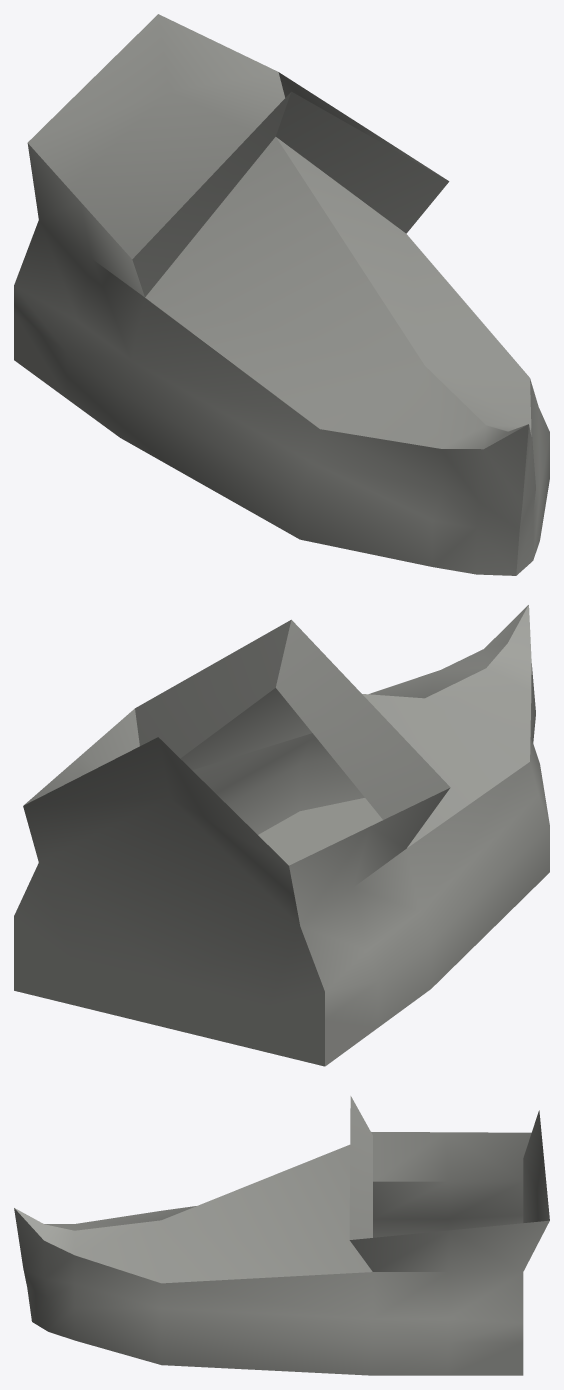
File: EnemyGroundLegR.fbx
3 views of the same model, one above another, from view 1: azimuth 30°, elevation 25°; view 2: azimuth 150°, elevation 25°; view 3: azimuth 270°, elevation 25° (orthographic). The views are drawn at different scales.
Visible parts, largest first — view 1: polySurface21; view 2: polySurface21; view 3: polySurface21.
Part boxes in pixels (left/top/right/bottom): polySurface21: left=14, top=14, right=549, bottom=575; polySurface21: left=14, top=605, right=549, bottom=1066; polySurface21: left=14, top=1096, right=549, bottom=1375.
Size of the model in its own units: 0.00401 by 0.00388 by 0.00831.
1 material, 1 textured.
